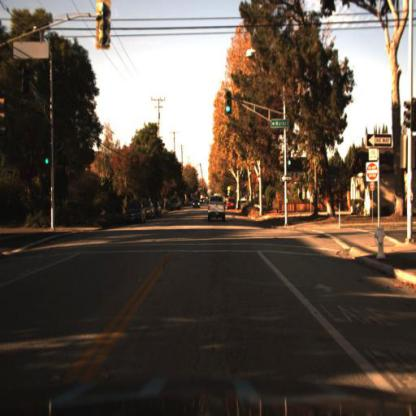car: (119, 196, 146, 230), (206, 189, 227, 227), (143, 198, 157, 224), (226, 197, 238, 215), (192, 196, 204, 213), (154, 200, 163, 218), (199, 196, 206, 208)
trafficLight-Green: (224, 96, 232, 117), (285, 155, 295, 171)
